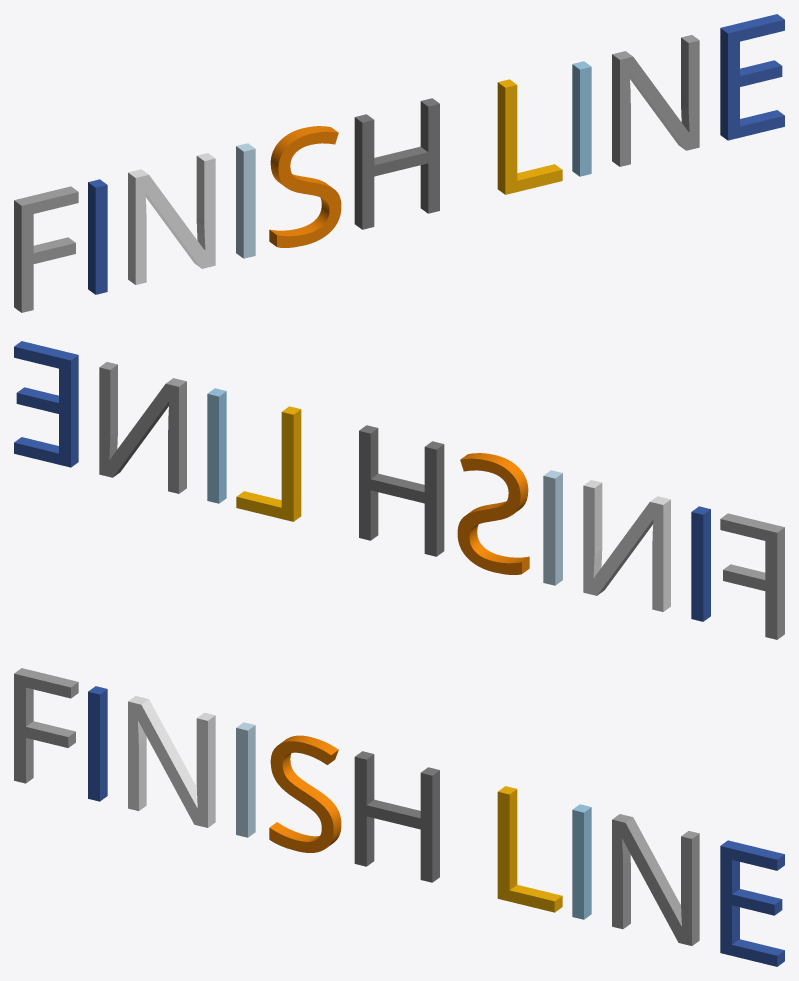
The model's file is Part Studio 1.obj.
3 views of the same model, one above another, from view 1: azimuth 30°, elevation 25°; view 2: azimuth 150°, elevation 25°; view 3: azimuth 330°, elevation 25° (orthographic).
Parts seen in each view (by area): view 1: mesh30, mesh108, mesh77, mesh122, mesh63, mesh7, mesh85, mesh39, mesh16, mesh94, mesh75, mesh82 (+8 smaller); view 2: mesh31, mesh109, mesh78, mesh123, mesh64, mesh8, mesh86, mesh40, mesh17, mesh95, mesh75, mesh82 (+8 smaller); view 3: mesh30, mesh108, mesh77, mesh122, mesh63, mesh7, mesh85, mesh16, mesh39, mesh94, mesh103, mesh25 (+7 smaller).
Part boxes in pixels (x1,y1,x2,y2): mesh30: [135, 158, 215, 284]; mesh108: [620, 40, 699, 166]; mesh77: [362, 104, 439, 229]; mesh122: [728, 19, 784, 140]; mesh63: [277, 131, 341, 247]; mesh7: [21, 192, 78, 312]; mesh85: [505, 85, 562, 194]; mesh39: [243, 149, 255, 258]; mesh16: [95, 185, 107, 294]; mesh94: [580, 67, 591, 176]; mesh75: [354, 117, 362, 229]; mesh82: [497, 82, 505, 194]; mesh31: [583, 485, 663, 611]; mesh109: [99, 367, 178, 493]; mesh78: [359, 431, 436, 556]; mesh123: [14, 346, 70, 467]; mesh64: [457, 458, 521, 574]; mesh8: [720, 519, 777, 639]; mesh86: [236, 412, 293, 521]; mesh40: [543, 476, 555, 585]; mesh17: [691, 512, 703, 621]; mesh95: [207, 394, 218, 503]; mesh75: [436, 444, 444, 556]; mesh82: [293, 409, 301, 521]; mesh30: [128, 701, 207, 827]; mesh108: [612, 819, 691, 945]; mesh77: [354, 757, 432, 882]; mesh122: [720, 846, 777, 966]; mesh63: [269, 741, 333, 852]; mesh7: [14, 673, 70, 783]; mesh85: [497, 792, 554, 912]; mesh16: [88, 691, 99, 801]; mesh39: [236, 728, 247, 837]; mesh94: [572, 810, 583, 919]; mesh103: [626, 817, 681, 925]; mesh25: [141, 699, 197, 807].
Size of the model in its own units: 0.1146 by 0.0158 by 0.002.
